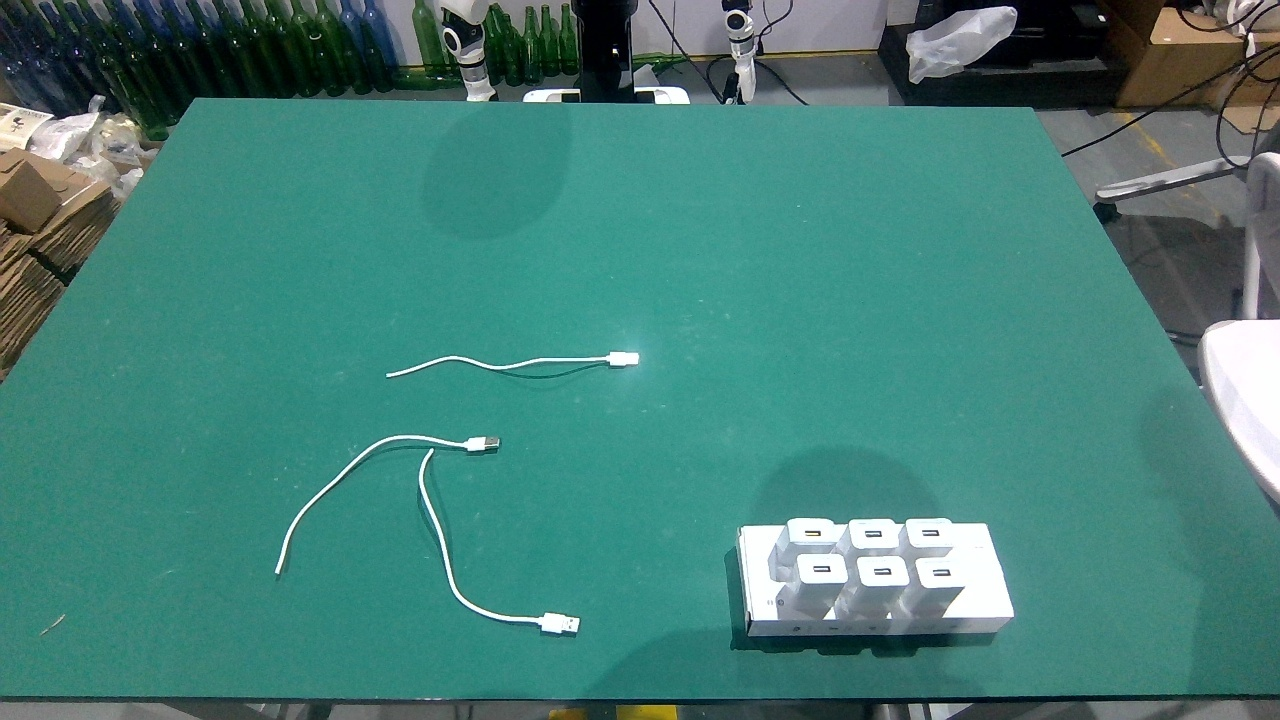usb_a_plug: (524, 608, 582, 637), (454, 436, 501, 452), (596, 350, 640, 367)
